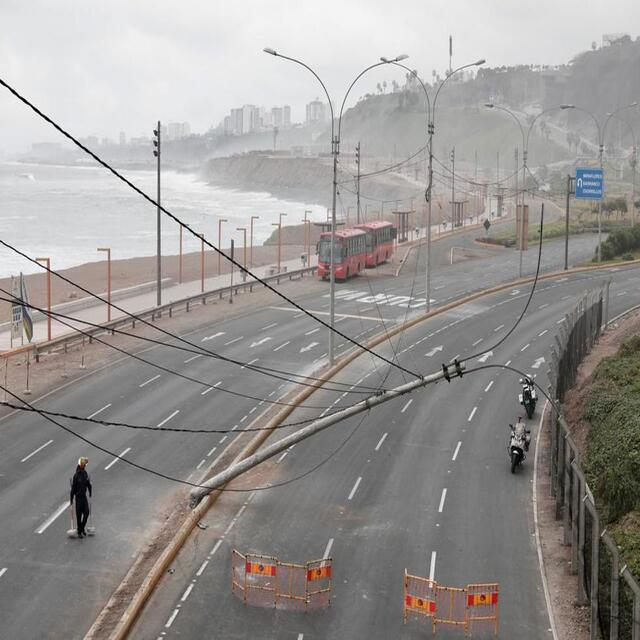Inclined Pole: (189, 202, 568, 502)
